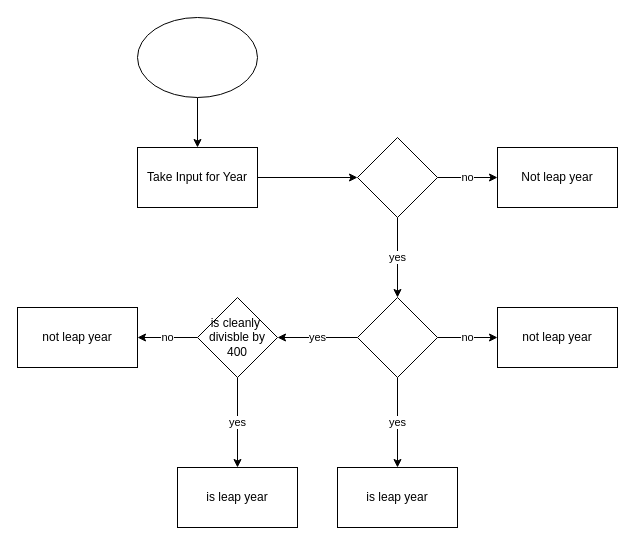
The diagram is 635 pixels wide and 545 high, and some of its shapes have lost their labels. The shapes that lost their labels are listed below. From the top down, each one's centre as x and y in pixels, then its label:
(197,57): start
(397,177): if year%4 == 0
(397,337): is cleanly divisible by 100
